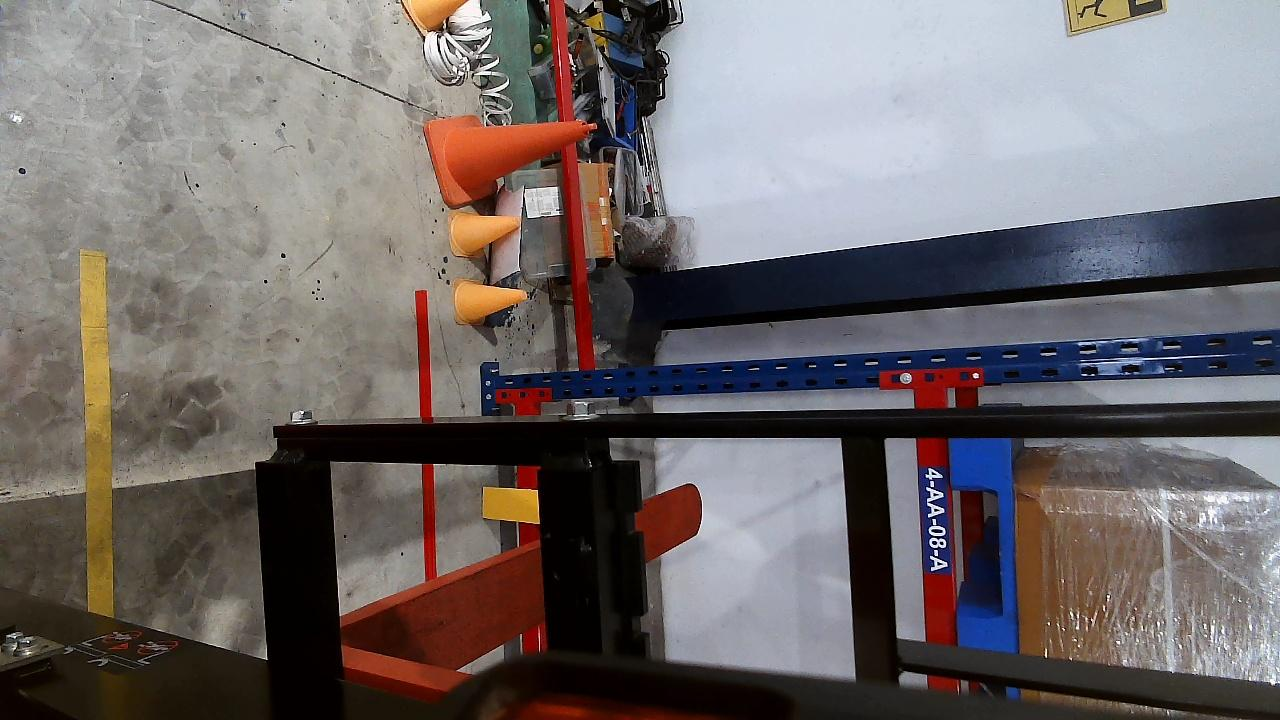h_rack: (916, 387, 961, 687)
orange_strip: (482, 488, 540, 523)
red_line: (412, 290, 433, 575)
small_pallet: (947, 440, 1021, 650)
yellow_line: (79, 249, 113, 619)
